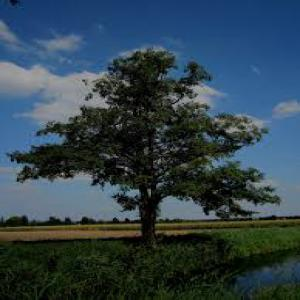Tree: (6, 45, 282, 243)
